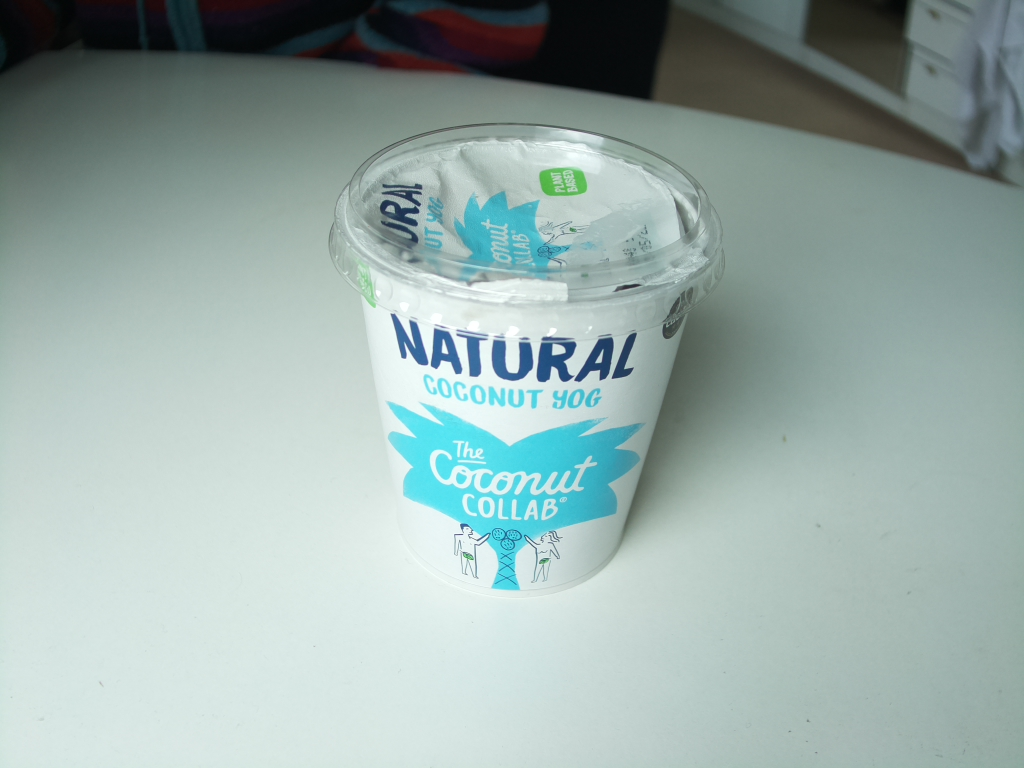yogurt: (324, 117, 729, 603)
